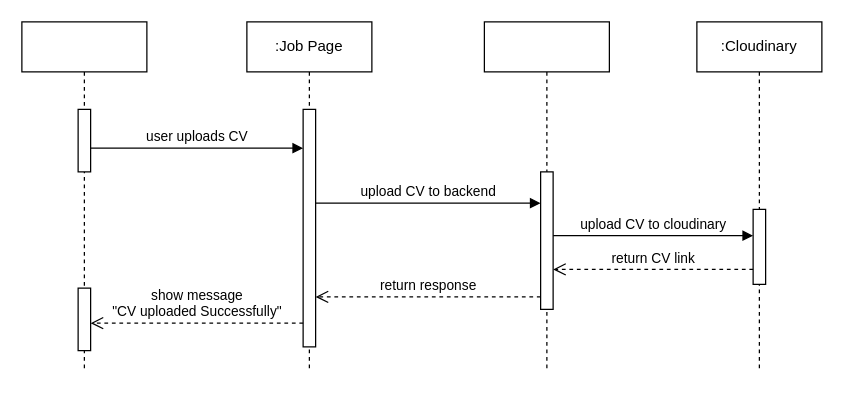
Image size: 844x394. Some labels were removed from this diagram. Each missing label, with the centre of its shape:
:Backend: [546,196]
:User: [84,196]
